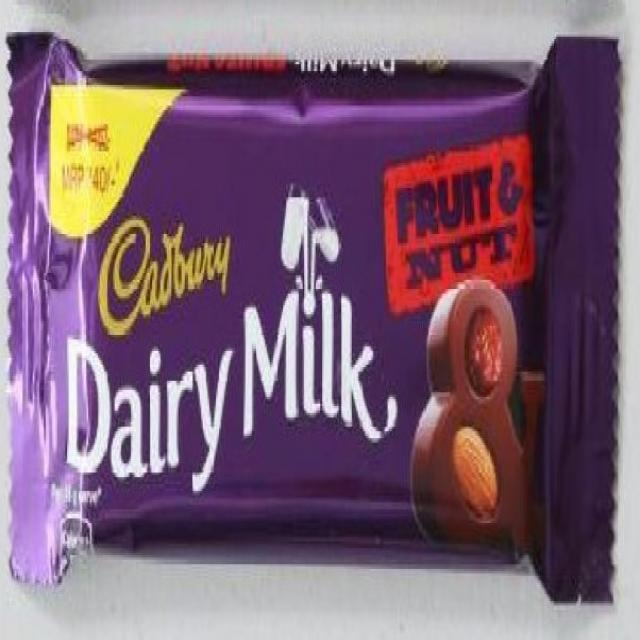Dry Waste: (8, 25, 624, 605)
